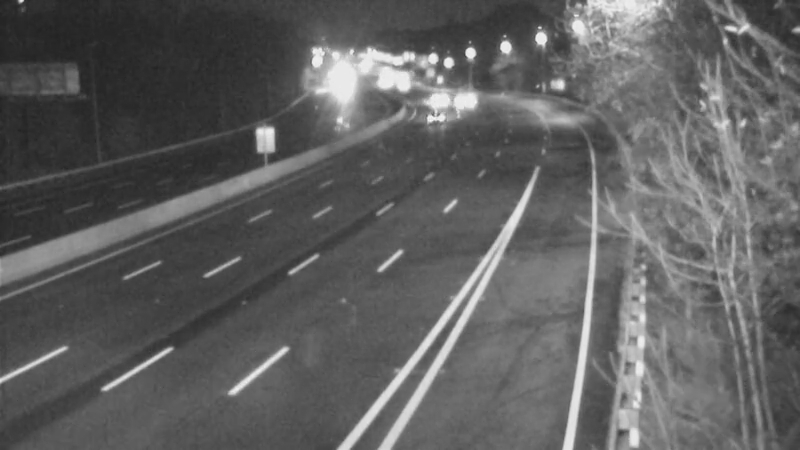vehicle: (409, 72, 459, 122), (438, 74, 488, 124), (404, 96, 454, 146)
